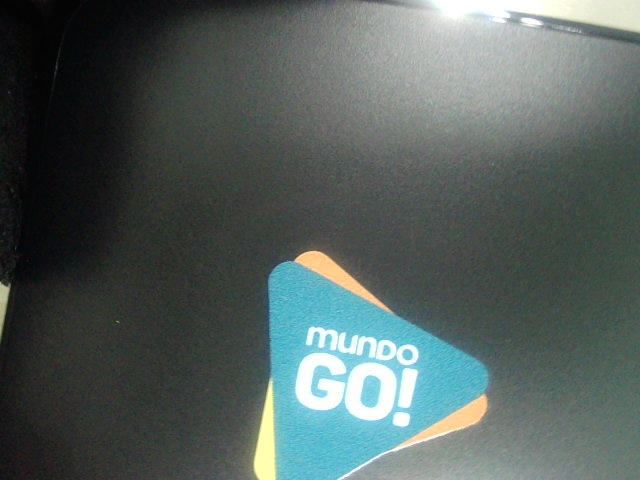AP_IPGMundoGO: (231, 243, 509, 479)
